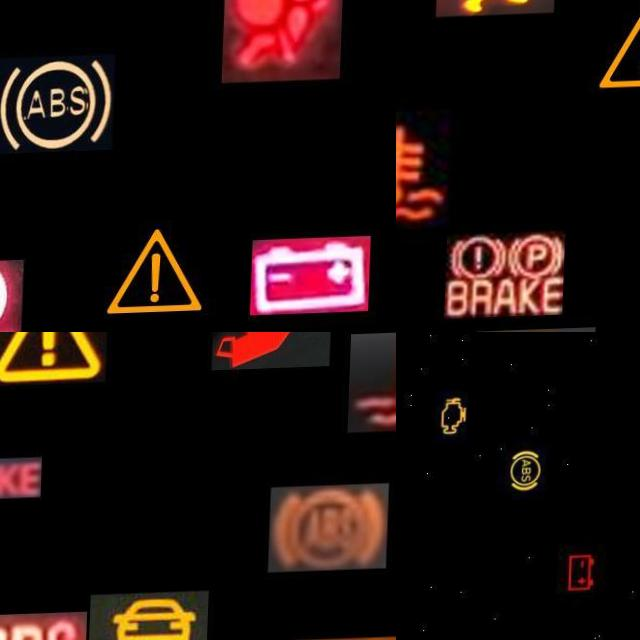Central Warning lamp: (98, 212, 220, 332), (0, 332, 109, 387), (589, 0, 640, 109)
Engine cooling system: (396, 111, 455, 233), (349, 334, 396, 436)
